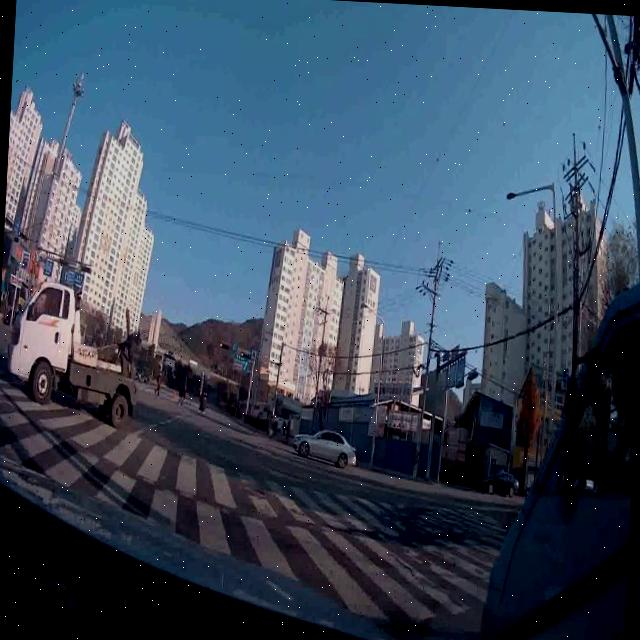crosswalk: (0, 373, 518, 622)
